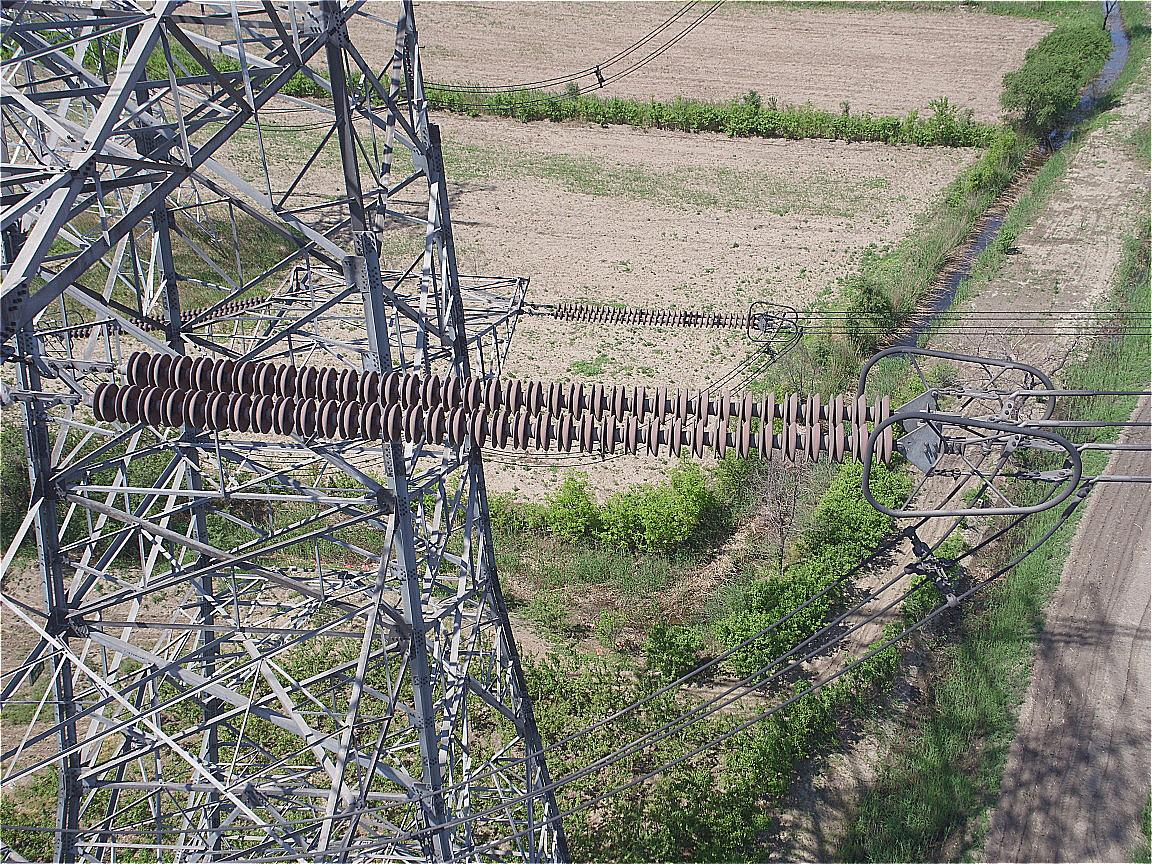insultor1: (553, 302, 755, 330)
insultor2: (92, 351, 895, 463)
